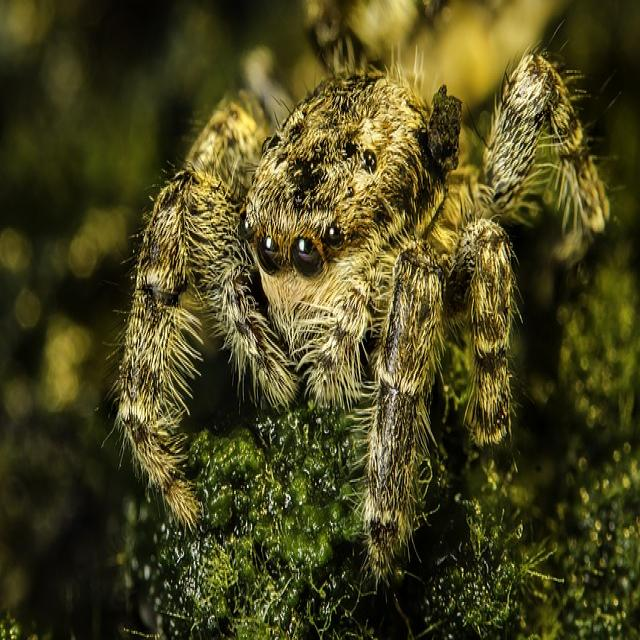spyder: (119, 55, 608, 575)
